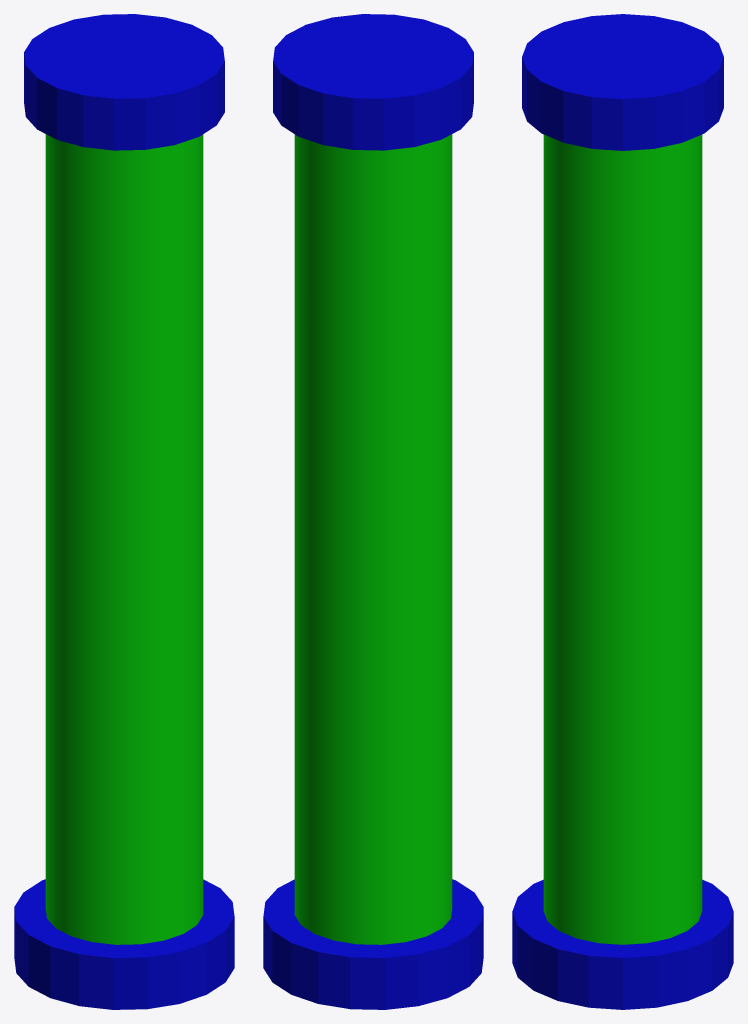
The model's file is SM_lettre.fbx.
3 views of the same model, side by side, from view 1: azimuth 30°, elevation 25°; view 2: azimuth 150°, elevation 25°; view 3: azimuth 270°, elevation 25° (orthographic).
Parts seen in each view (by area): view 1: pCylinder1; view 2: pCylinder1; view 3: pCylinder1.
Boxes of the visible parts, x1,y1,x2,y2 form: pCylinder1: (14,14,234,1009); pCylinder1: (263,14,483,1009); pCylinder1: (512,14,733,1009).
Bounding box in the file's own units: 15.62 × 70.65 × 15.62.
